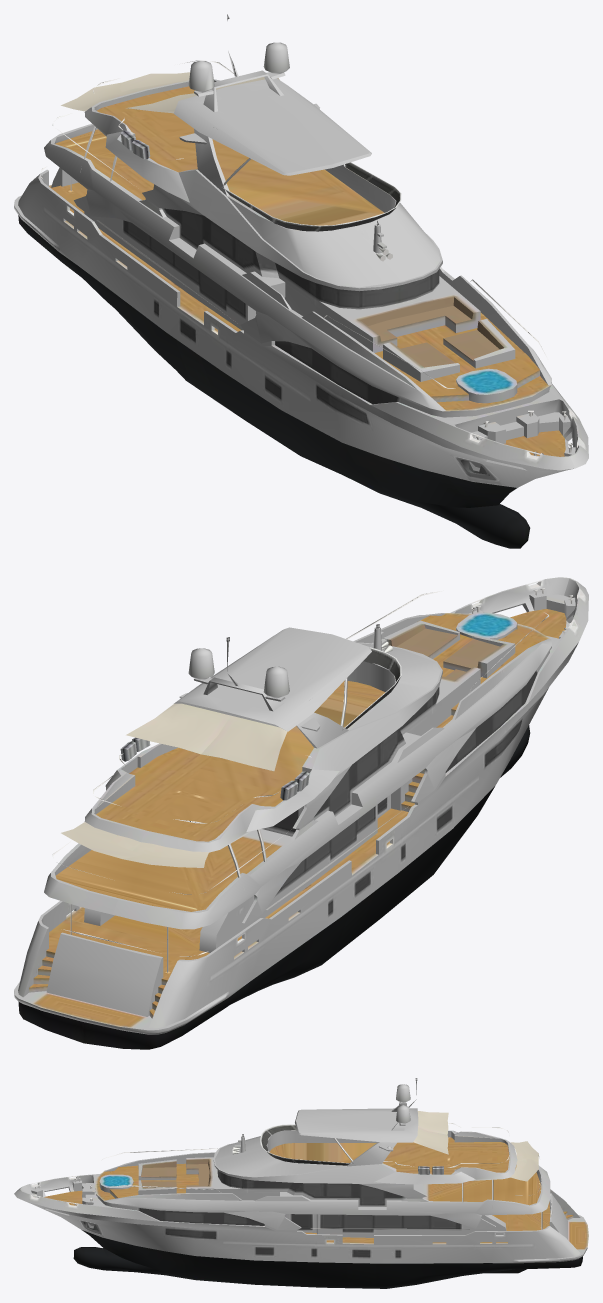
Rendered from bay-yacht.lod0.glb.
3 views of the same model, one above another, from view 1: azimuth 30°, elevation 25°; view 2: azimuth 150°, elevation 25°; view 3: azimuth 270°, elevation 25° (orthographic). The views are drawn at different scales.
Visible parts, largest first — view 1: korpus1_01 - Default_0; view 2: korpus1_01 - Default_0; view 3: korpus1_01 - Default_0.
Boxes of the visible parts, left/top/right/bottom form: korpus1_01 - Default_0: left=14, top=14, right=588, bottom=548; korpus1_01 - Default_0: left=14, top=577, right=588, bottom=1049; korpus1_01 - Default_0: left=14, top=1078, right=588, bottom=1288.
Size of the model in its own units: 4.88 by 8.95 by 24.
1 material, 1 textured.
